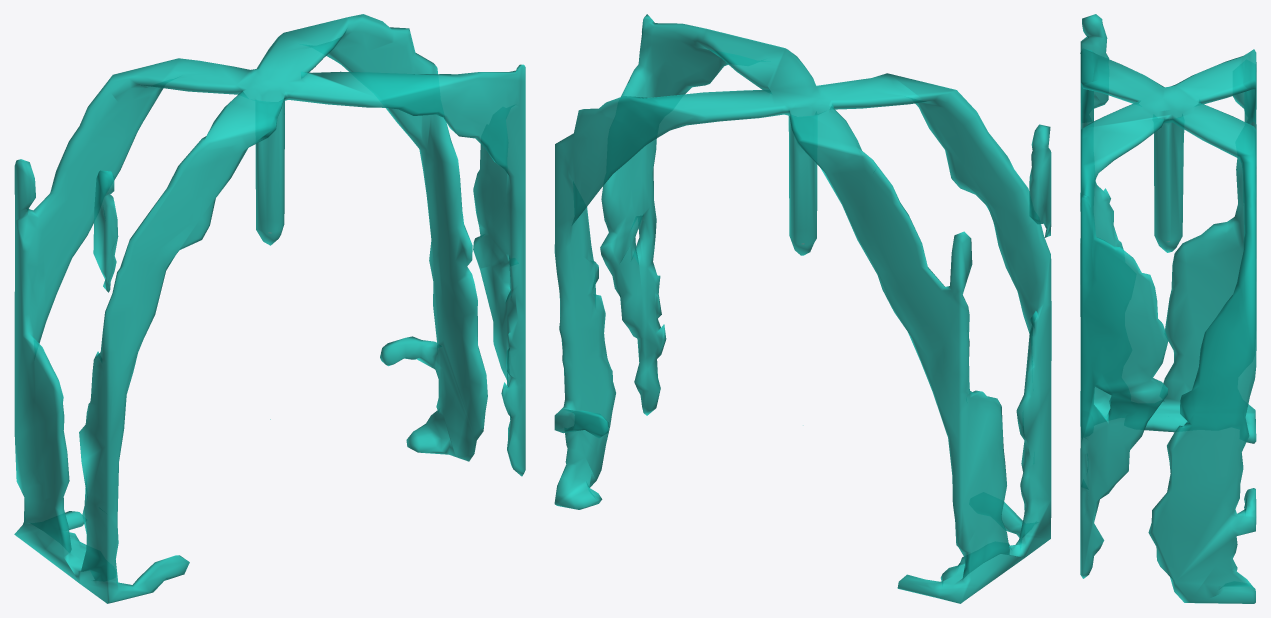
3 renders of one model, left to right at view 1: azimuth 30°, elevation 25°; view 2: azimuth 150°, elevation 25°; view 3: azimuth 270°, elevation 25°, orthographic. The views are drawn at different scales.
Visible parts, largest first — view 1: Liquid_Domain; view 2: Liquid_Domain; view 3: Liquid_Domain.
Part boxes in pixels (x1=…): Liquid_Domain: x1=14, y1=14, x2=525, y2=603; Liquid_Domain: x1=554, y1=14, x2=1051, y2=603; Liquid_Domain: x1=1080, y1=14, x2=1256, y2=603.
Size of the model in its own units: 884 by 885 by 345.
